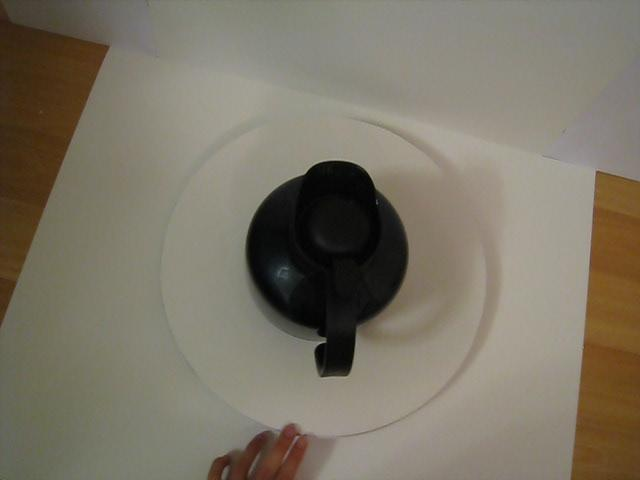pitcher: (234, 149, 422, 396)
